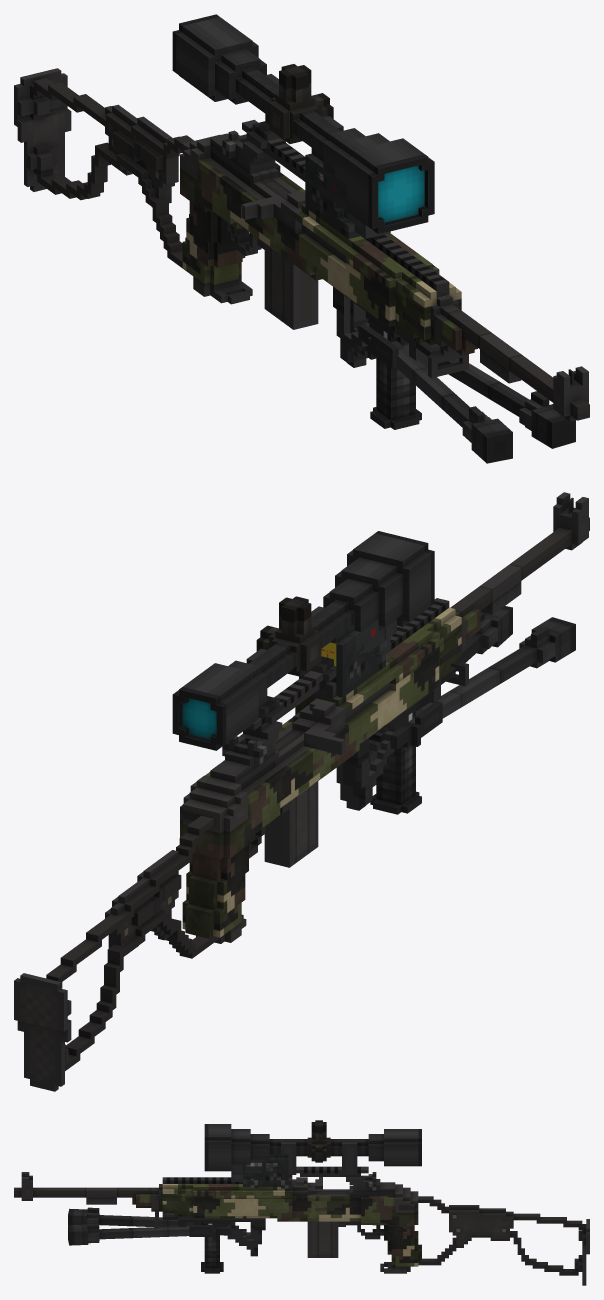
The model's file is RD_M1A1_CARBINE_MILITARY_1945.glb.
3 views of the same model, one above another, from view 1: azimuth 30°, elevation 25°; view 2: azimuth 150°, elevation 25°; view 3: azimuth 270°, elevation 25° (orthographic). The views are drawn at different scales.
Visible parts, largest first — view 1: M1A1_CARBINE, SCOPE_SCHMIDT_BENDER, M1A1_CARBINE_STOCK, DIPOD2_LEG1, DIPOD2_LEG2, M1A1_CARBINE_CLIP, GRIP1, GRIP3, M1A1_CARBINE_BOLT, M1A1_CARBINE_PLANK2, SCOPE_EOTECH, SCOPE_TASCO (+2 smaller); view 2: M1A1_CARBINE, SCOPE_SCHMIDT_BENDER, M1A1_CARBINE_STOCK, DIPOD2_LEG1, GRIP3, M1A1_CARBINE_CLIP, M1A1_CARBINE_BOLT, GRIP1, M1A1_CARBINE_PLANK2, SCOPE_TASCO, DIPOD2_LEG2, SCOPE_EOTECH (+2 smaller); view 3: M1A1_CARBINE, SCOPE_SCHMIDT_BENDER, M1A1_CARBINE_STOCK, DIPOD2_LEG2, DIPOD2_LEG1, GRIP3, M1A1_CARBINE_CLIP, M1A1_CARBINE_PLANK2, SCOPE_TASCO, GRIP1, SCOPE_EOTECH, DIPOD2 (+2 smaller).
Boxes of the visible parts, x1,y1,x2,y2 form: M1A1_CARBINE: (180,130,589,421); SCOPE_SCHMIDT_BENDER: (172,14,434,234); M1A1_CARBINE_STOCK: (14,68,194,275); DIPOD2_LEG1: (392,341,512,463); DIPOD2_LEG2: (437,358,575,448); M1A1_CARBINE_CLIP: (264,243,318,329); GRIP1: (370,330,421,429); GRIP3: (333,287,427,368); M1A1_CARBINE_BOLT: (241,169,345,262); M1A1_CARBINE_PLANK2: (239,119,305,181); SCOPE_EOTECH: (305,171,390,238); SCOPE_TASCO: (305,147,365,238); M1A1_CARBINE: (180,492,589,943); SCOPE_SCHMIDT_BENDER: (172,531,434,750); M1A1_CARBINE_STOCK: (14,805,223,1091); DIPOD2_LEG1: (408,617,575,723); GRIP3: (336,679,440,810); M1A1_CARBINE_CLIP: (264,781,318,867); M1A1_CARBINE_BOLT: (275,683,389,755); GRIP1: (370,701,421,814); M1A1_CARBINE_PLANK2: (239,670,336,753); SCOPE_TASCO: (321,619,396,677); DIPOD2_LEG2: (441,606,512,684); SCOPE_EOTECH: (330,637,390,697); M1A1_CARBINE: (14,1172,421,1273); SCOPE_SCHMIDT_BENDER: (204,1120,421,1174); M1A1_CARBINE_STOCK: (399,1196,589,1285); DIPOD2_LEG2: (68,1224,213,1245); DIPOD2_LEG1: (68,1207,200,1227); GRIP3: (178,1216,265,1256); M1A1_CARBINE_CLIP: (307,1221,338,1257); M1A1_CARBINE_PLANK2: (246,1166,368,1188); SCOPE_TASCO: (231,1154,288,1186); GRIP1: (201,1220,223,1273); SCOPE_EOTECH: (231,1163,288,1186); DIPOD2: (162,1213,231,1240).
Size of the model in its own units: 0.1488 by 0.4526 by 1.49.
9 materials, 9 textured.
